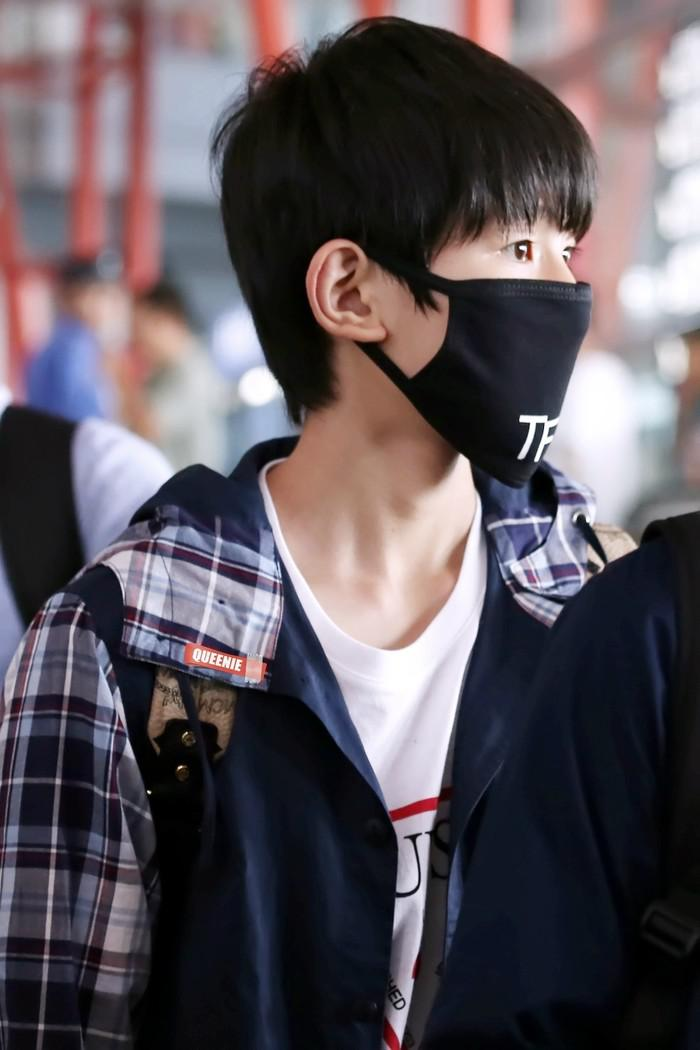OK: (348, 215, 587, 447)
